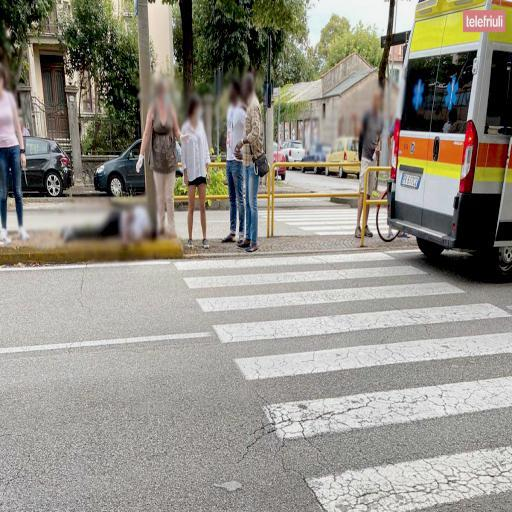crosswalk: (204, 299, 512, 388)
